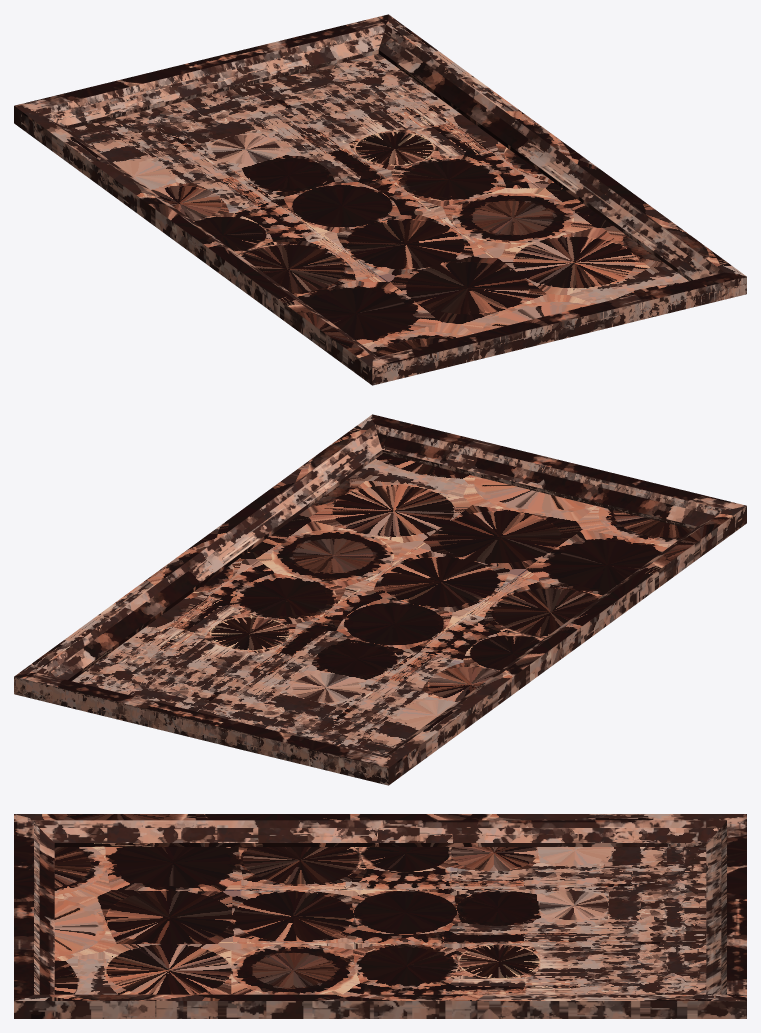
The model's file is Quadro.fbx.
3 renders of one model, top to bottom at view 1: azimuth 30°, elevation 25°; view 2: azimuth 150°, elevation 25°; view 3: azimuth 270°, elevation 25°, orthographic. The views are drawn at different scales.
Visible parts, largest first — view 1: Plane; view 2: Plane; view 3: Plane.
Boxes of the visible parts, x1=… form: Plane: x1=14, y1=14, x2=746, y2=385; Plane: x1=14, y1=414, x2=746, y2=785; Plane: x1=14, y1=814, x2=746, y2=1018.
Bounding box in the file's own units: 358 × 16.05 × 593.
